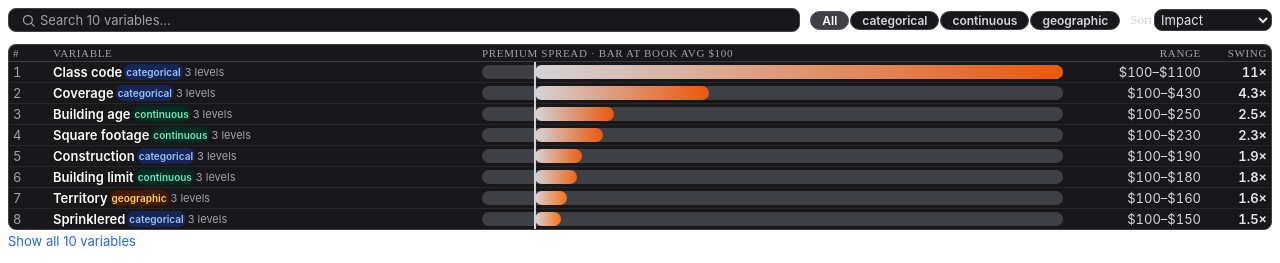
Test: <RateDriversList> › re-sorts by premium share when the sort changes
Step 1. Select "Premium share" in the dropdown with test id "rater-rate-drivers-sort" → (1213, 20), box [1154,9,1272,31]
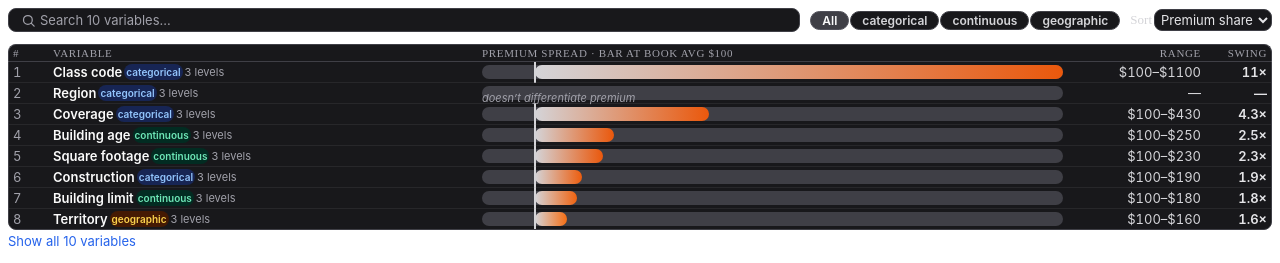
Now the button with test id "rater-rate-drivers-row-region" is shown, box [9,82,1271,103]
